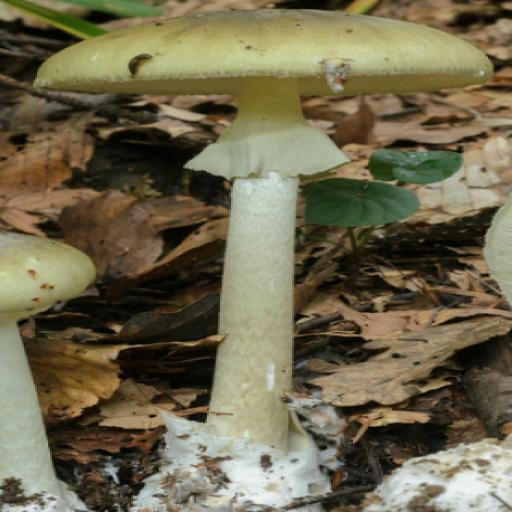mushroom: (47, 14, 495, 506)
